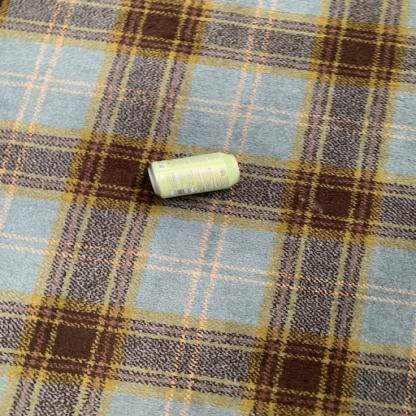trash: (138, 148, 250, 206)
